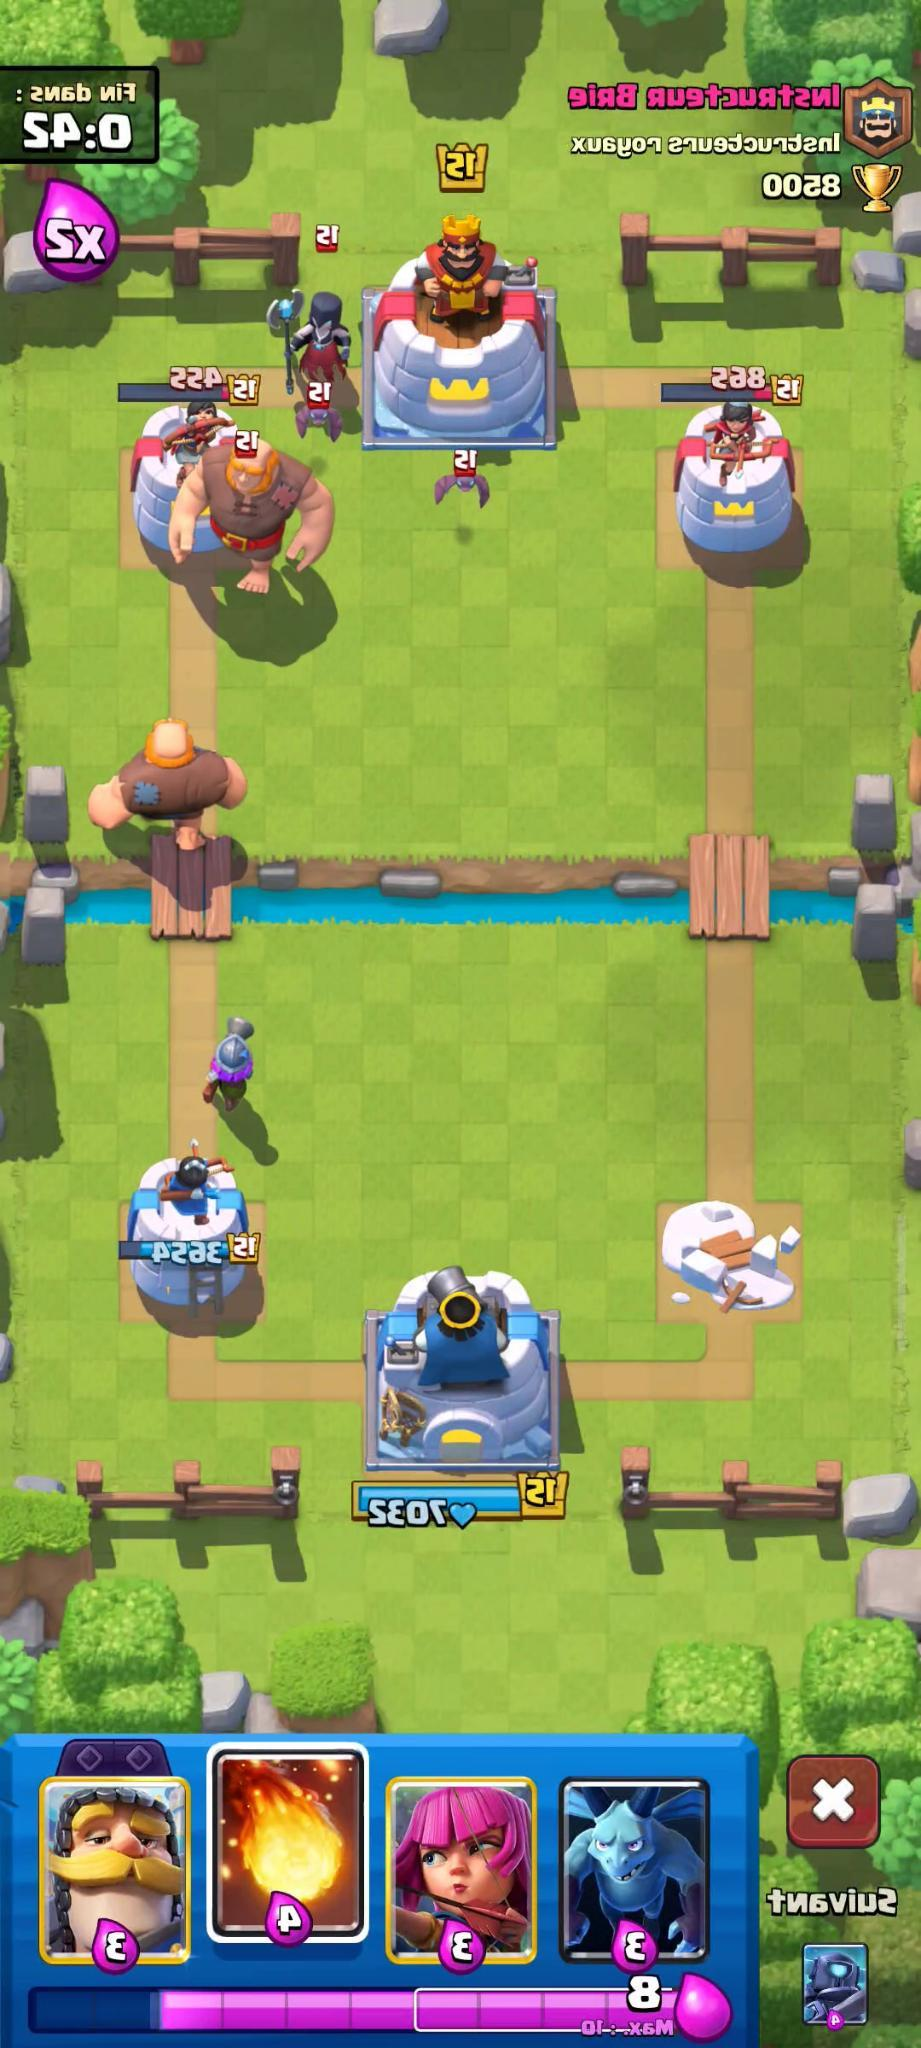enemy_bats: (430, 440, 502, 528), (289, 378, 345, 444)
enemy_giant: (169, 418, 342, 601)
enemy_night_witch: (263, 227, 359, 400)
player_giant: (82, 706, 253, 859)
player_musketeer: (195, 1000, 266, 1114)
